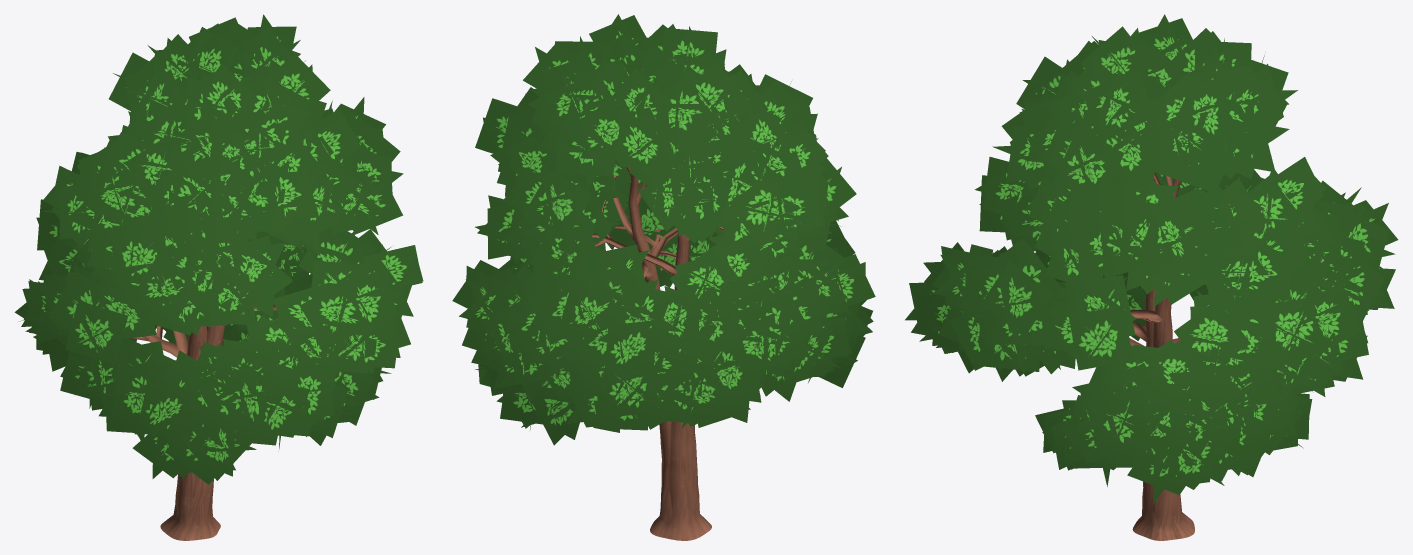
The model's file is Tree_03.glb.
3 views of the same model, side by side, from view 1: azimuth 30°, elevation 25°; view 2: azimuth 150°, elevation 25°; view 3: azimuth 270°, elevation 25° (orthographic). The views are drawn at different scales.
Parts seen in each view (by area): view 1: Tree_03; view 2: Tree_03; view 3: Tree_03.
Part boxes in pixels (x1,y1,x2,y2): Tree_03: (14, 14, 423, 540); Tree_03: (452, 14, 875, 540); Tree_03: (905, 14, 1398, 540).
Size of the model in its own units: 8.29 by 10.72 by 9.47.
Materials: 2 (2 with a texture image).
